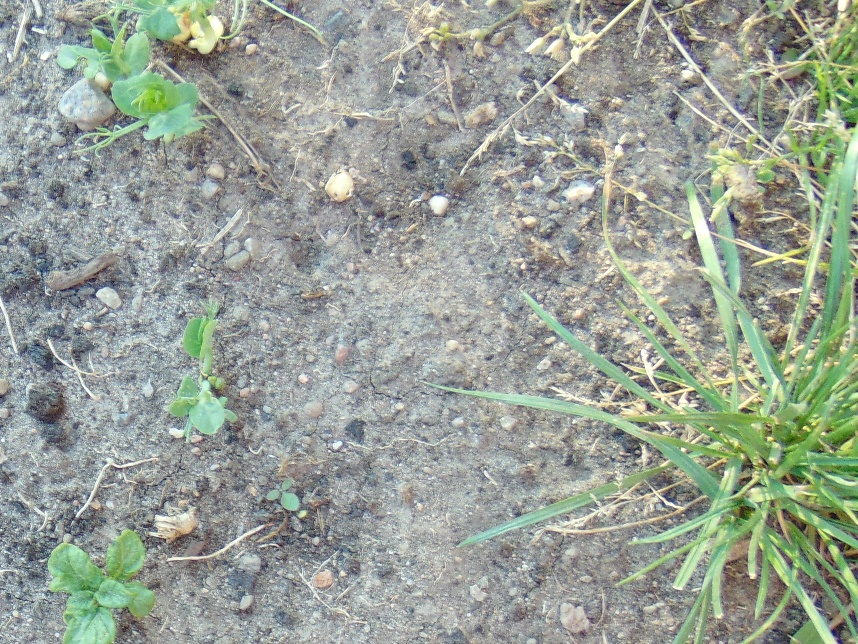crop: (49, 20, 216, 160), (161, 290, 237, 443), (74, 1, 247, 67)
weed: (601, 278, 858, 610), (703, 1, 858, 282), (49, 530, 161, 644)
